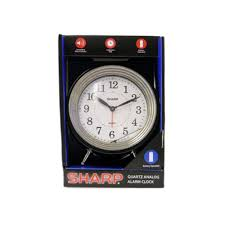alarm_clock: (68, 64, 159, 163)
